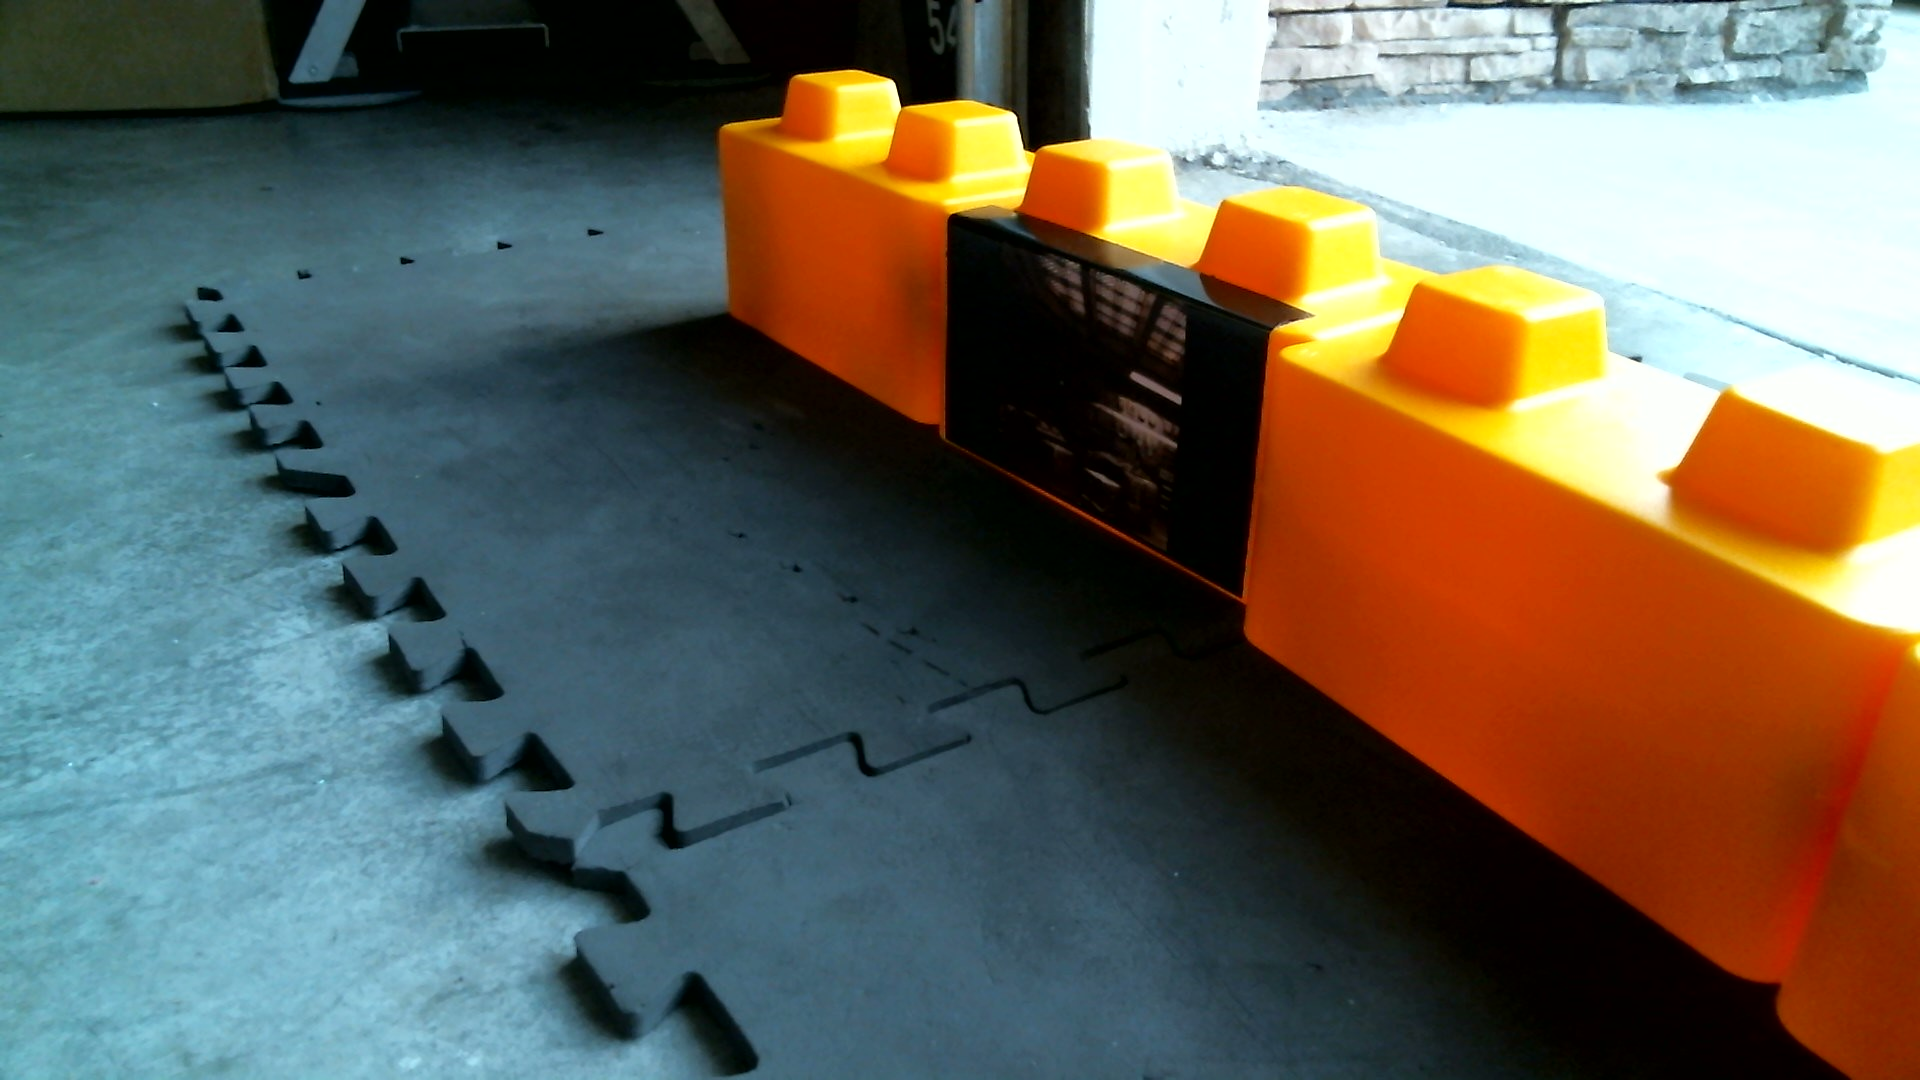center: (705, 62, 1913, 1019)
